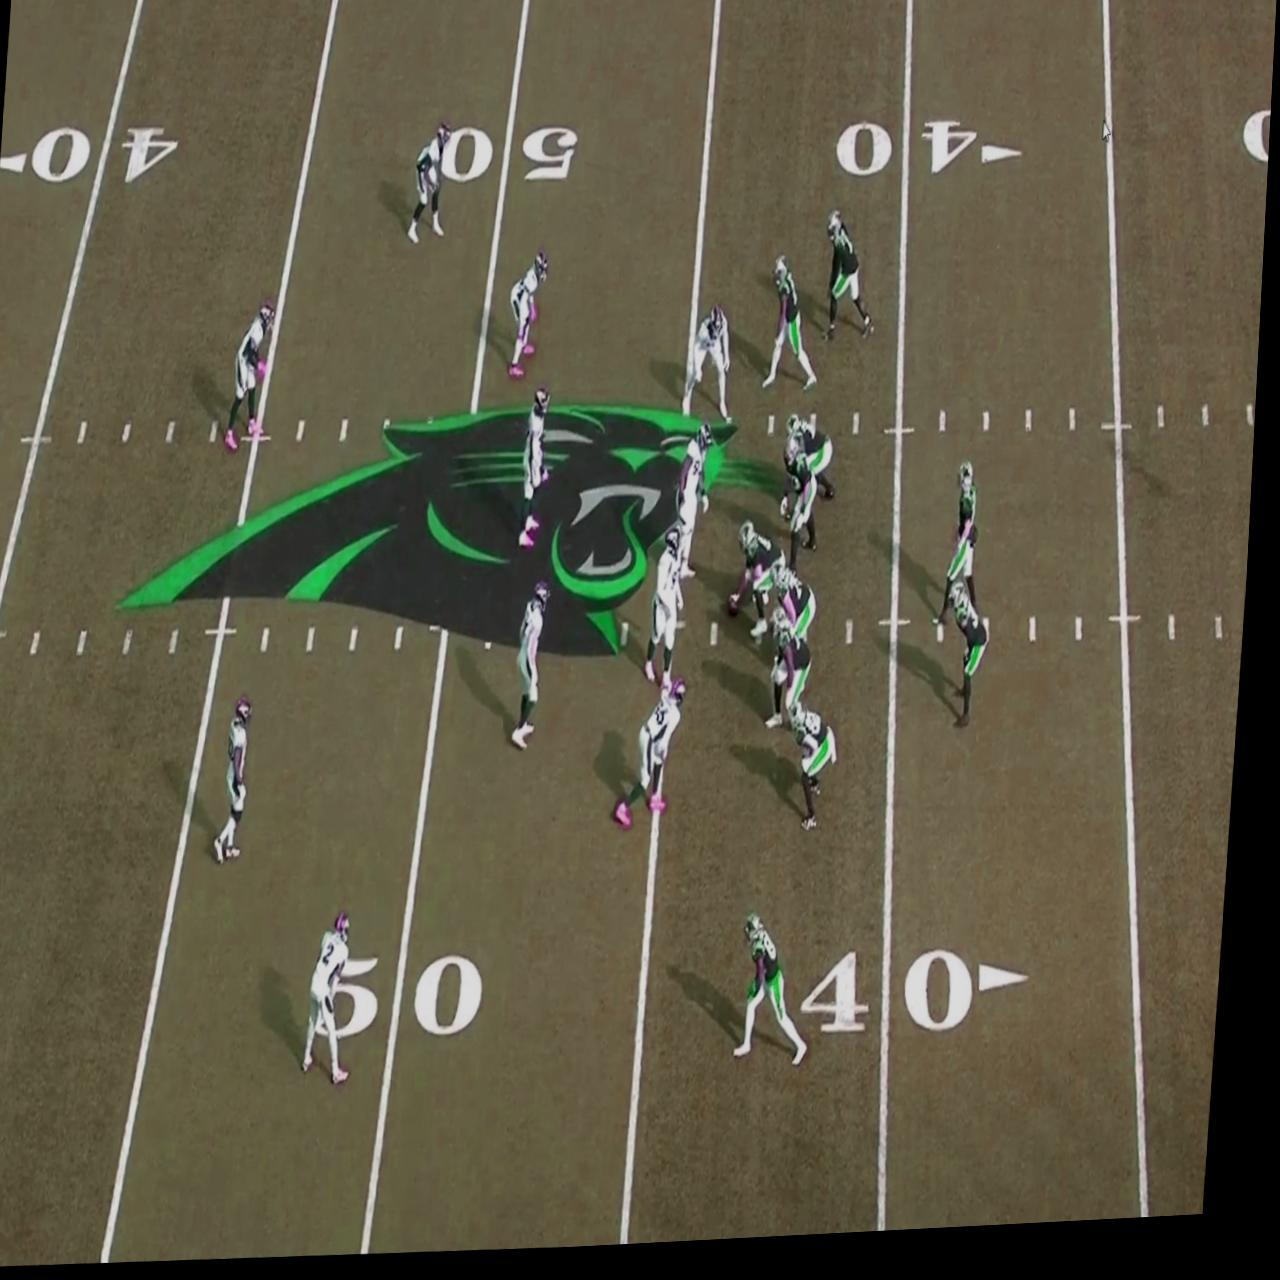40L: (0, 121, 182, 192)
40R: (810, 952, 1044, 1054), (836, 122, 1029, 191)
50: (318, 951, 497, 1048), (437, 125, 581, 193)
